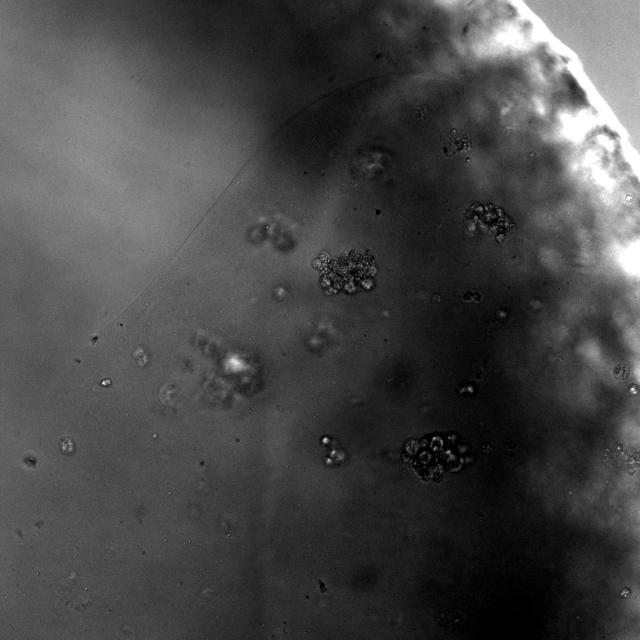organoid: (192, 334, 263, 405), (401, 431, 471, 482), (312, 249, 377, 295), (464, 202, 514, 242), (246, 216, 295, 252), (603, 445, 639, 475), (319, 434, 346, 467), (441, 128, 471, 156), (58, 435, 76, 455), (612, 363, 629, 380), (619, 587, 631, 598), (100, 377, 112, 387), (465, 157, 471, 164), (375, 209, 381, 215)
